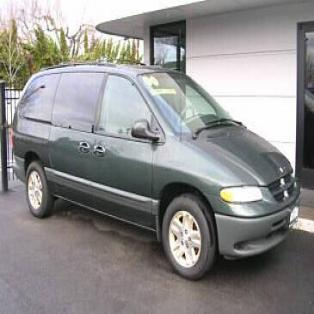Auto: (8, 55, 304, 283)
